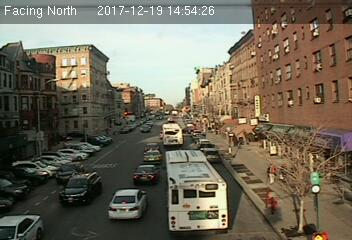bus: (164, 150, 230, 233), (160, 121, 183, 145)
car: (61, 174, 102, 208), (107, 190, 151, 220), (56, 162, 86, 182), (132, 164, 161, 184), (143, 148, 163, 162), (205, 148, 220, 161)
pedestrian: (267, 162, 276, 186)
